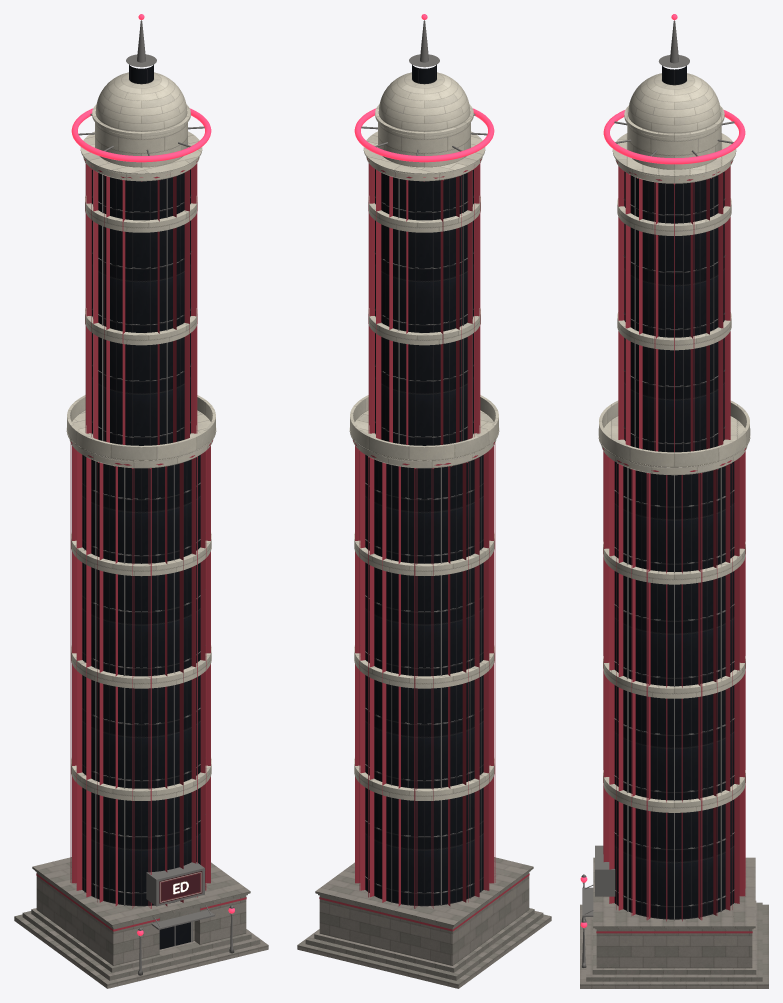
Rendered from ecology-dao.glb.
3 renders of one model, left to right at view 1: azimuth 30°, elevation 25°; view 2: azimuth 150°, elevation 25°; view 3: azimuth 270°, elevation 25°, orthographic.
Parts seen in each view (by area): view 1: Landmark · Ecology DAO; view 2: Landmark · Ecology DAO; view 3: Landmark · Ecology DAO.
Boxes of the visible parts, <box> form: Landmark · Ecology DAO: <box>14,14,268,988</box>; Landmark · Ecology DAO: <box>297,14,551,988</box>; Landmark · Ecology DAO: <box>580,14,768,988</box>.
Bounding box in the file's own units: 12 × 65.5 × 12.
7 materials, 4 textured.
